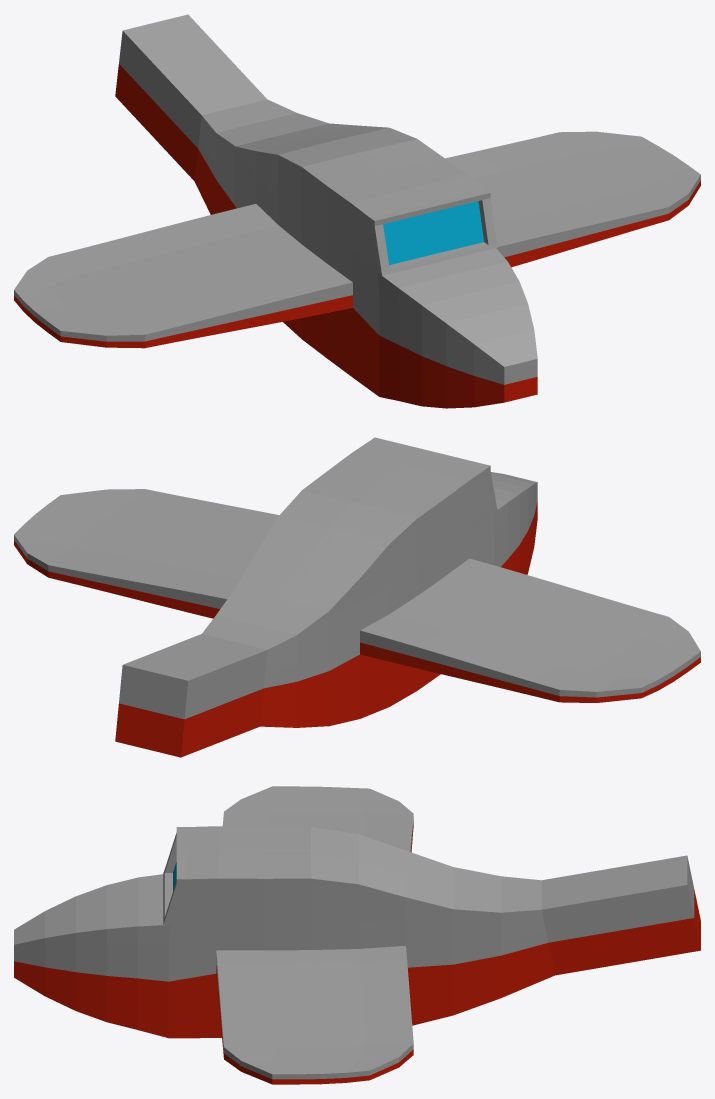
The model's file is AirPlane.fbx.
The picture shows the model from 3 angles, top to bottom: view 1: azimuth 30°, elevation 25°; view 2: azimuth 150°, elevation 25°; view 3: azimuth 270°, elevation 25°; orthographic projection. The views are drawn at different scales.
Parts seen in each view (by area): view 1: Cube; view 2: Cube; view 3: Cube.
Part boxes in pixels (<box>): Cube: <box>14,14,700,408</box>; Cube: <box>14,437,700,757</box>; Cube: <box>14,786,700,1084</box>.
Bounding box in the file's own units: 1099 × 285 × 1108.
